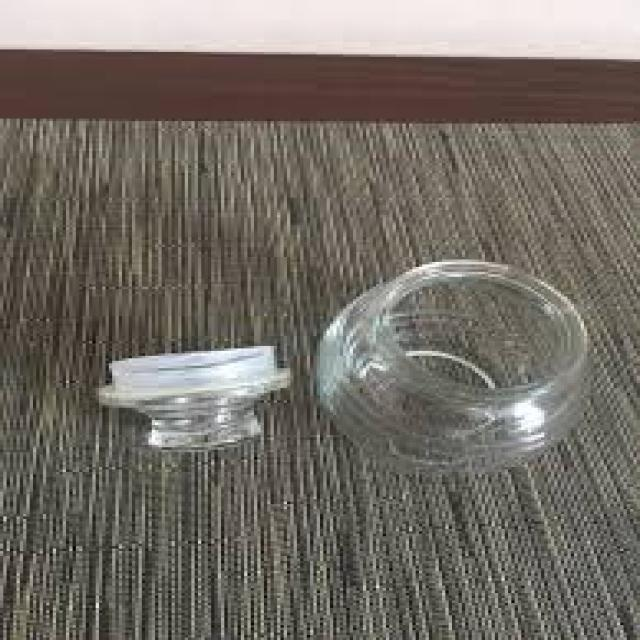ToplesKaca: (304, 258, 596, 488)
